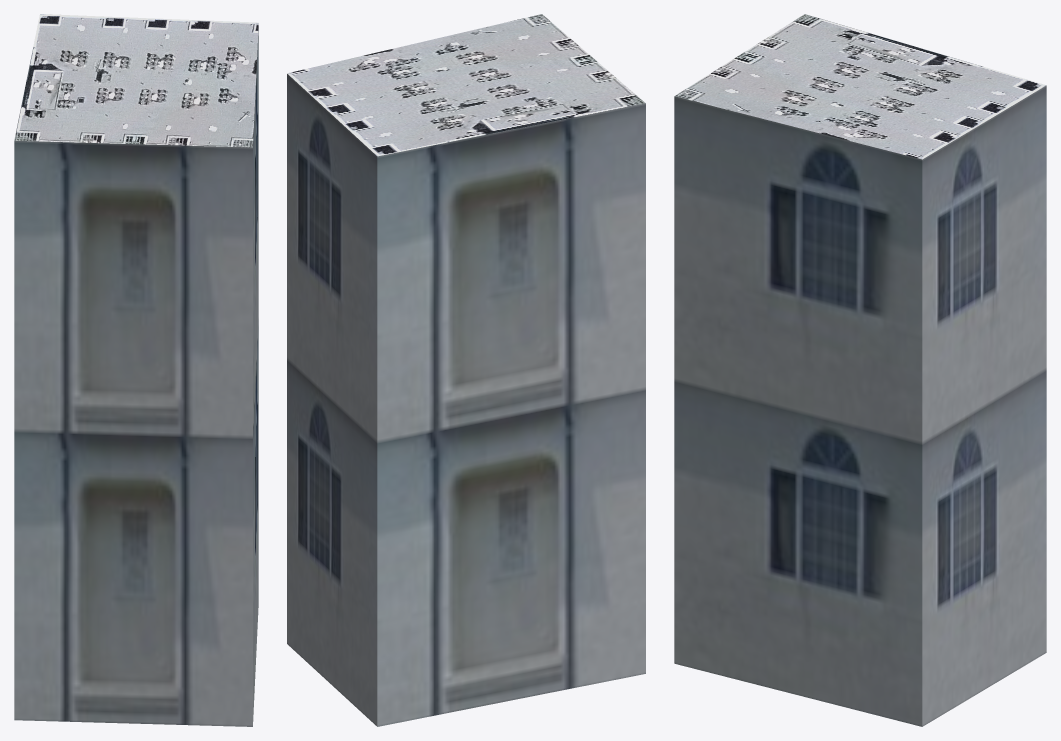
File: ResTex__5111.fbx
3 views of the same model, side by side, from view 1: azimuth 30°, elevation 25°; view 2: azimuth 150°, elevation 25°; view 3: azimuth 270°, elevation 25° (orthographic). The views are drawn at different scales.
Visible parts, largest first — view 1: CityEngineMaterial_17_m, CityEngineMaterial_m; view 2: CityEngineMaterial_17_m, CityEngineMaterial_m; view 3: CityEngineMaterial_17_m, CityEngineMaterial_m.
Part boxes in pixels (box(x1,y1,x2,y2)): CityEngineMaterial_17_m: box(14, 29, 258, 726); CityEngineMaterial_m: box(14, 14, 258, 147); CityEngineMaterial_17_m: box(287, 74, 645, 726); CityEngineMaterial_m: box(287, 14, 645, 156); CityEngineMaterial_17_m: box(674, 85, 1046, 726); CityEngineMaterial_m: box(675, 14, 1045, 159).
Bounding box in the file's own units: 3.3 × 6 × 3.57.
Materials: 2 (2 with a texture image).
